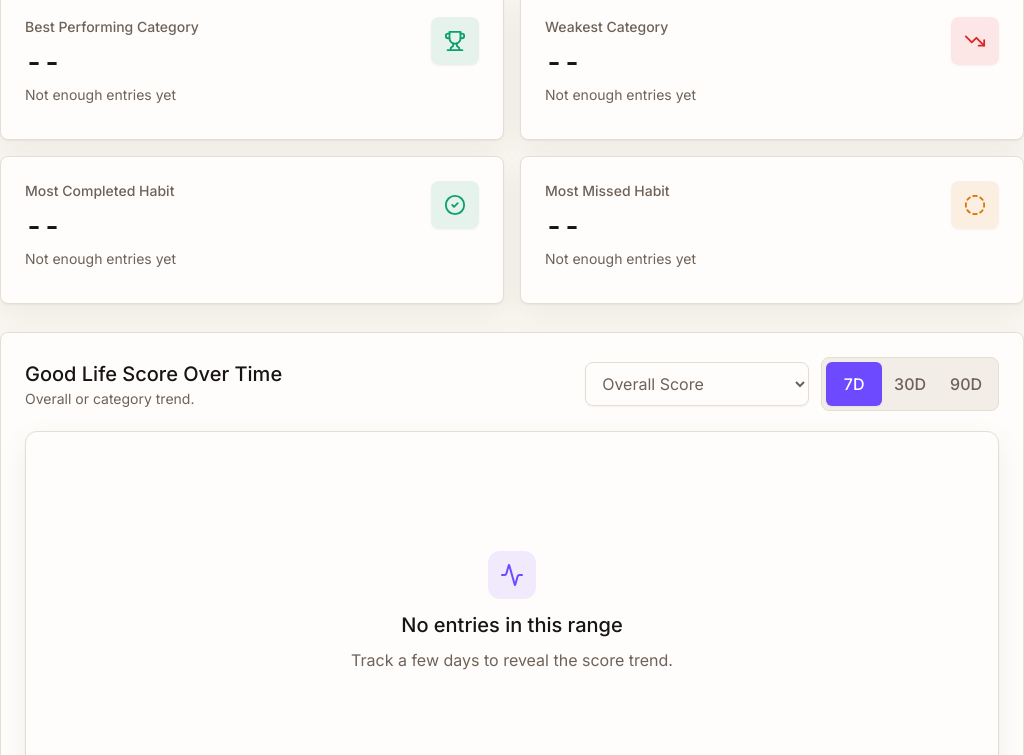
Test: DashboardScreen › switches date ranges
(page scrolled)
Click the button named "30 days": (910, 384) top-left (882, 362), bottom-right (938, 406)
(page scrolled)
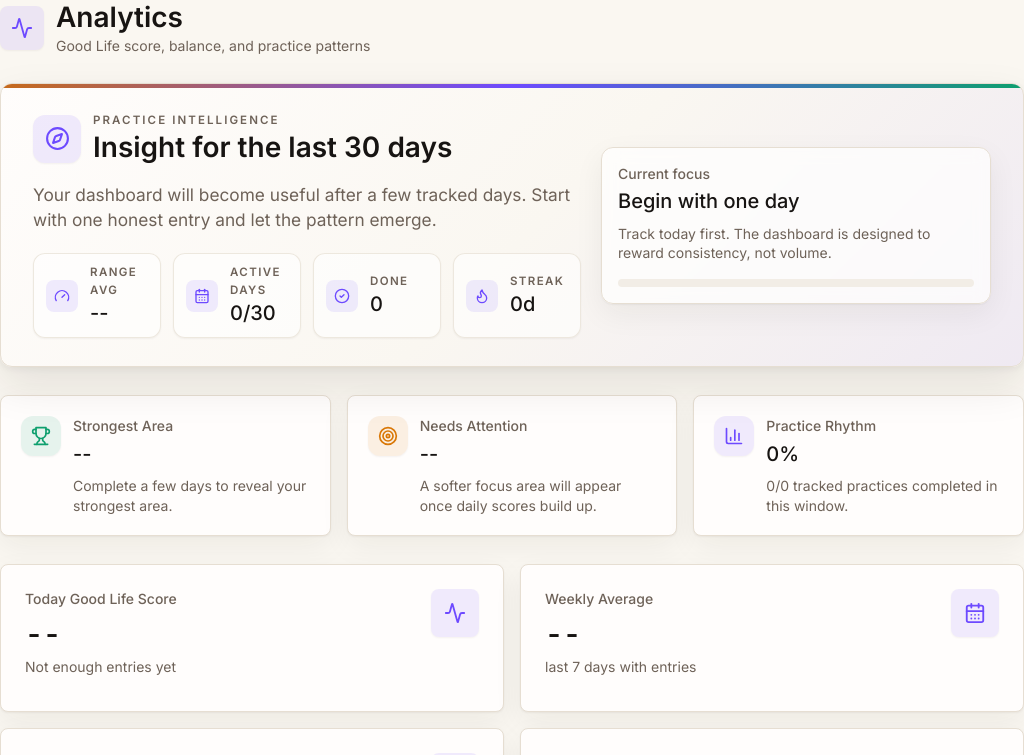
Result: the heading "Insight for the last 30 days" is shown at top-left (93, 130), bottom-right (452, 166)
